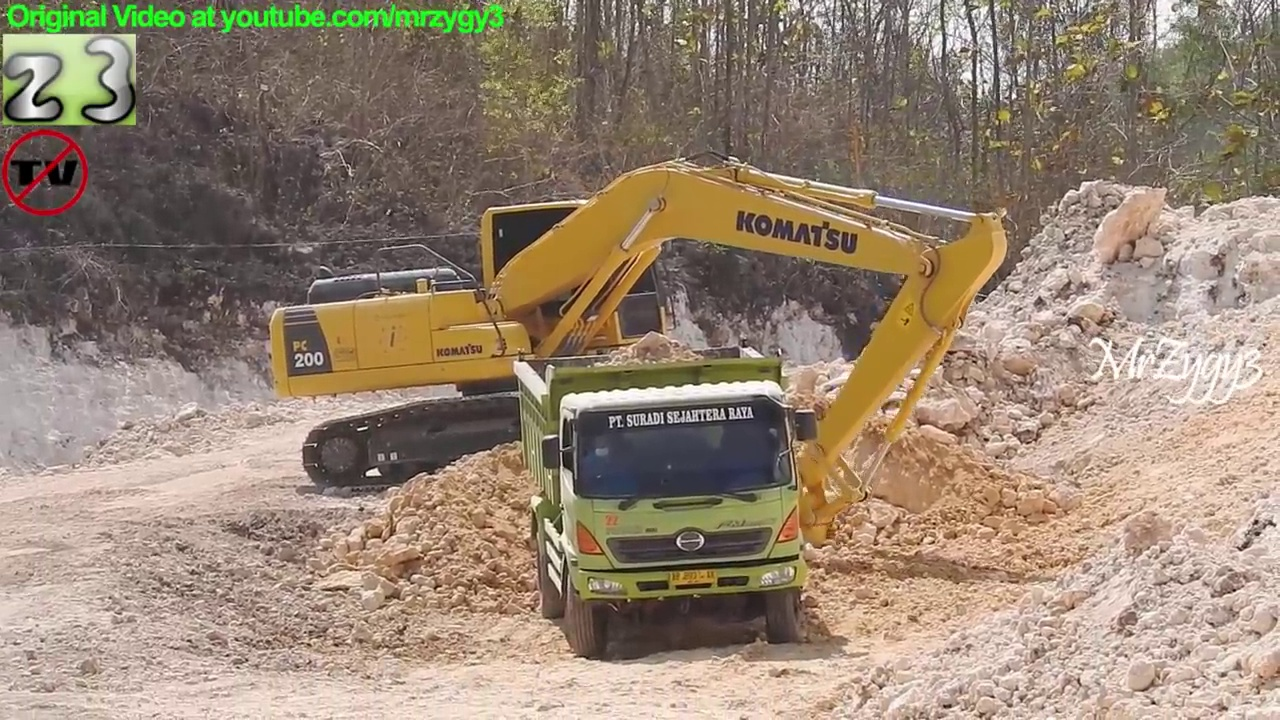excavator: (265, 147, 1017, 561)
truck: (509, 333, 822, 662)
